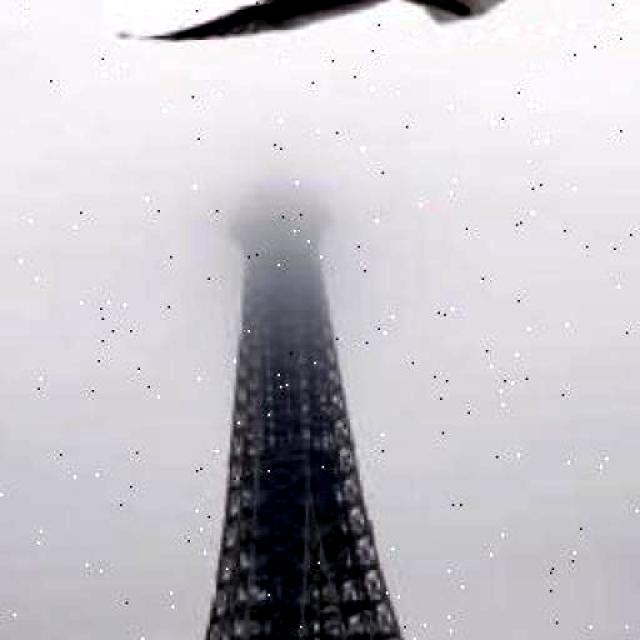airplane: (98, 0, 620, 48)
